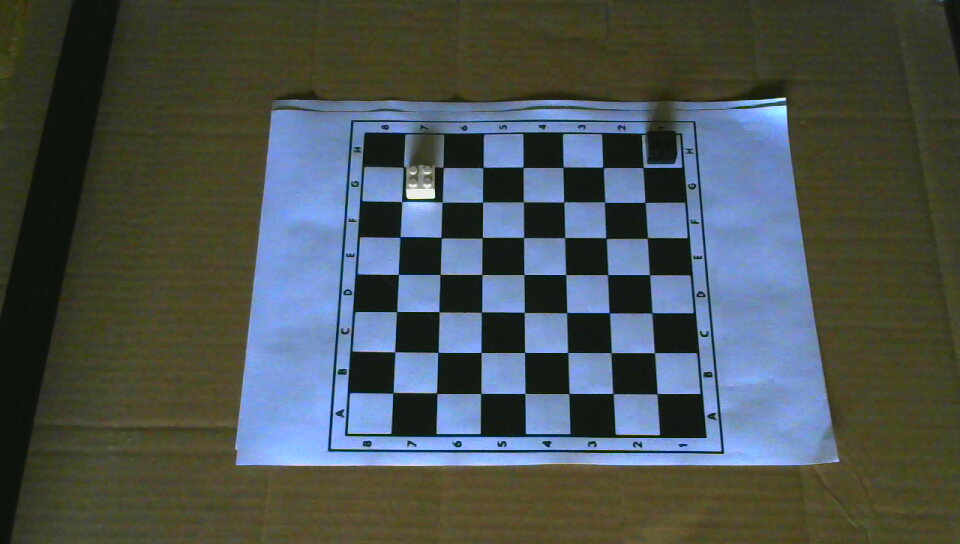bp: (643, 126, 681, 165)
wp: (404, 161, 438, 201)
